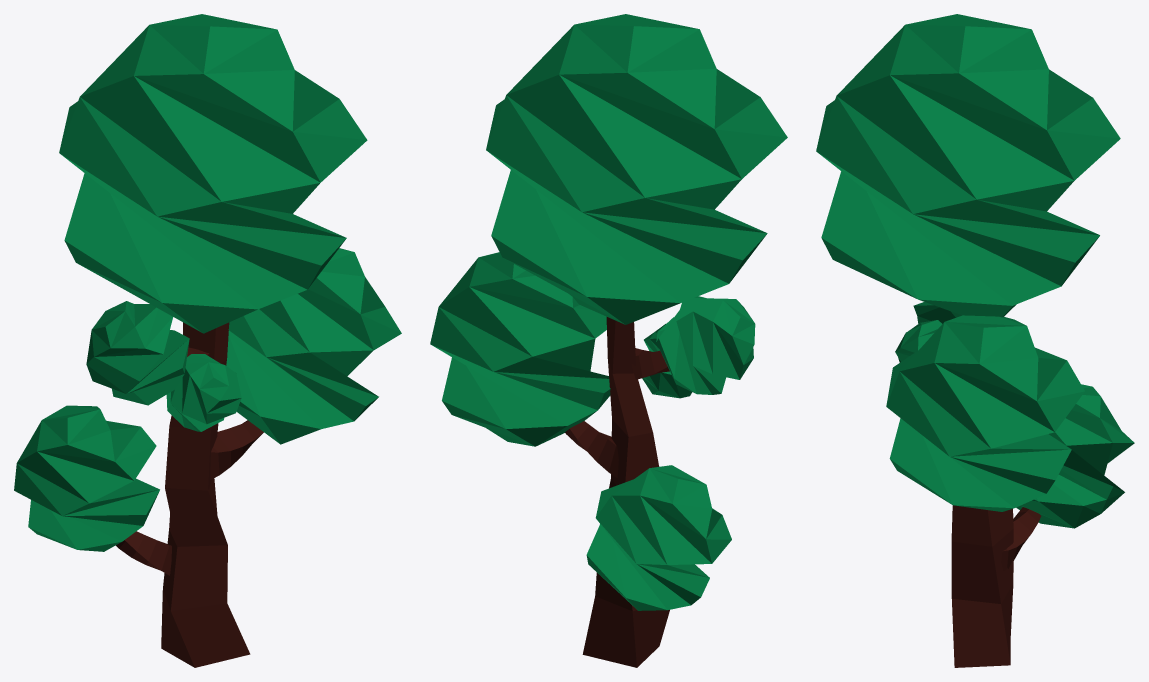
The model's file is Tree3-2.FBX.
3 views of the same model, side by side, from view 1: azimuth 30°, elevation 25°; view 2: azimuth 150°, elevation 25°; view 3: azimuth 270°, elevation 25° (orthographic). The views are drawn at different scales.
Parts seen in each view (by area): view 1: Tree_3-2; view 2: Tree_3-2; view 3: Tree_3-2.
Boxes of the visible parts, x1,y1,x2,y2 form: Tree_3-2: (14,14,401,667); Tree_3-2: (430,14,787,667); Tree_3-2: (816,14,1134,667).
Bounding box in the file's own units: 27.35 × 50.67 × 23.43.
